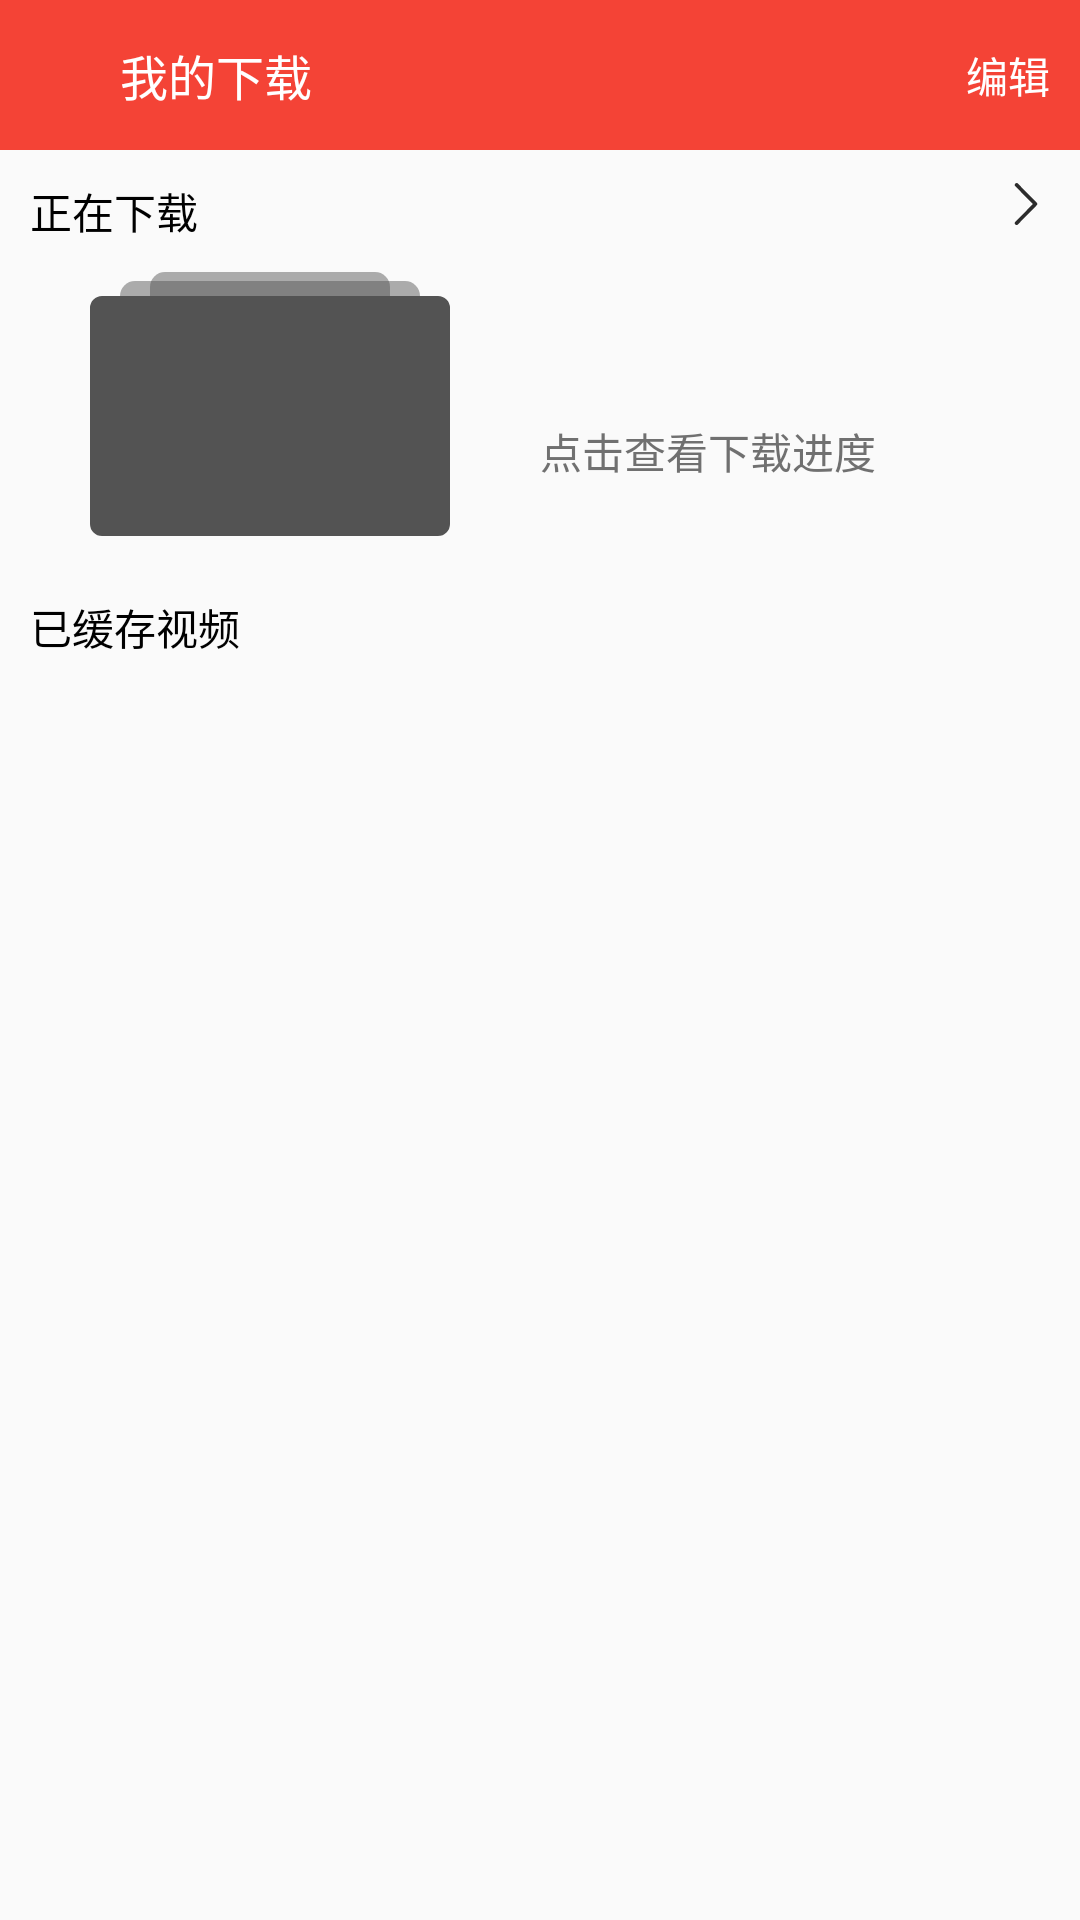

Icon bounding boxes for this 1080 × 1920 phone screenshot, format [left=x1, top=y1, right=x2, bottom=y2]:
gengduo: [left=1014, top=183, right=1038, bottom=225]
